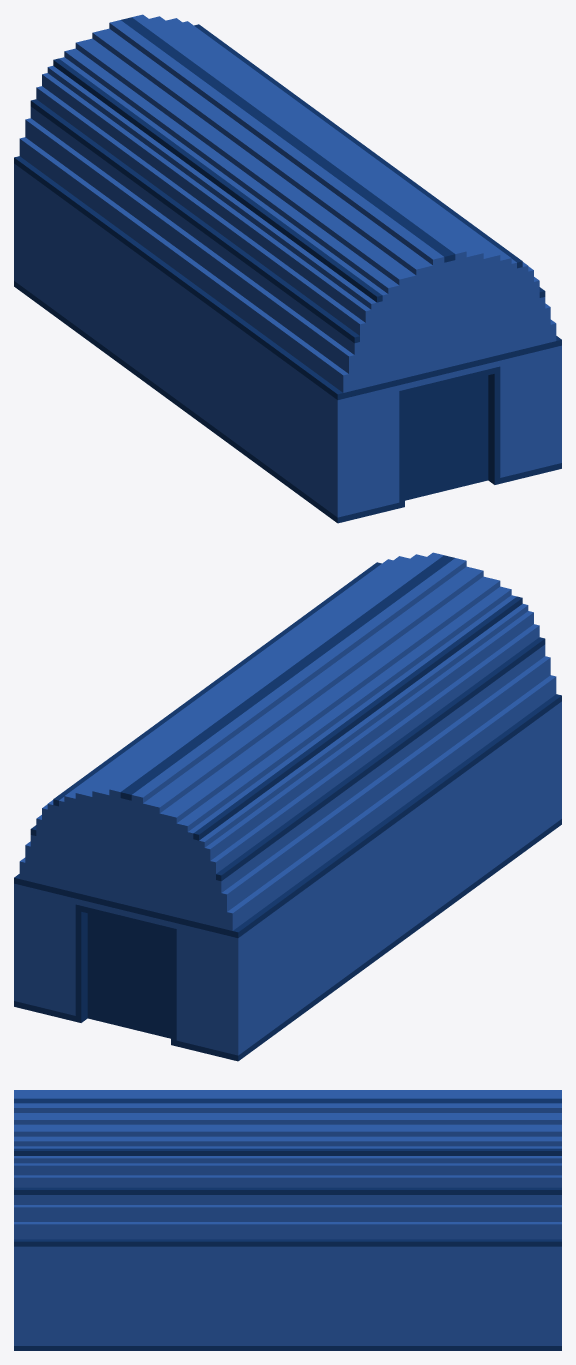
The model's file is hangar.obj.
The picture shows the model from 3 angles, top to bottom: view 1: azimuth 30°, elevation 25°; view 2: azimuth 150°, elevation 25°; view 3: azimuth 270°, elevation 25°; orthographic projection. The views are drawn at different scales.
Bounding box in the file's own units: 4 × 4.1 × 10.
Materials: 1 (1 with a texture image).
